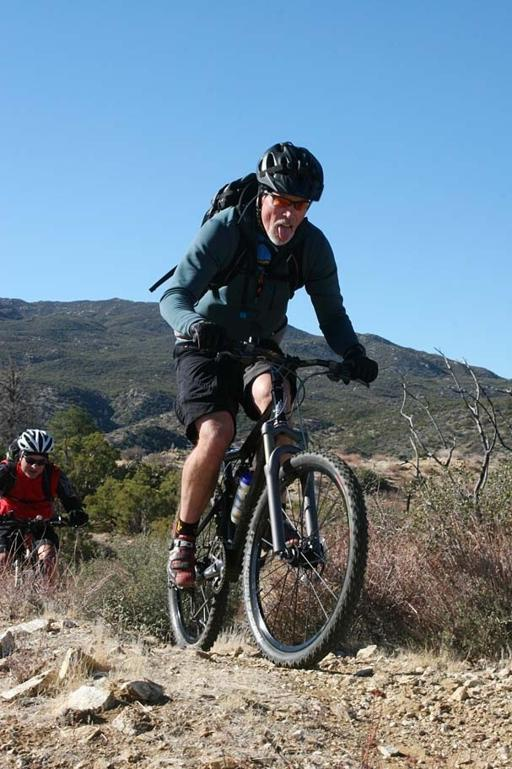non-vehicle: (164, 330, 375, 670), (0, 511, 86, 592)
